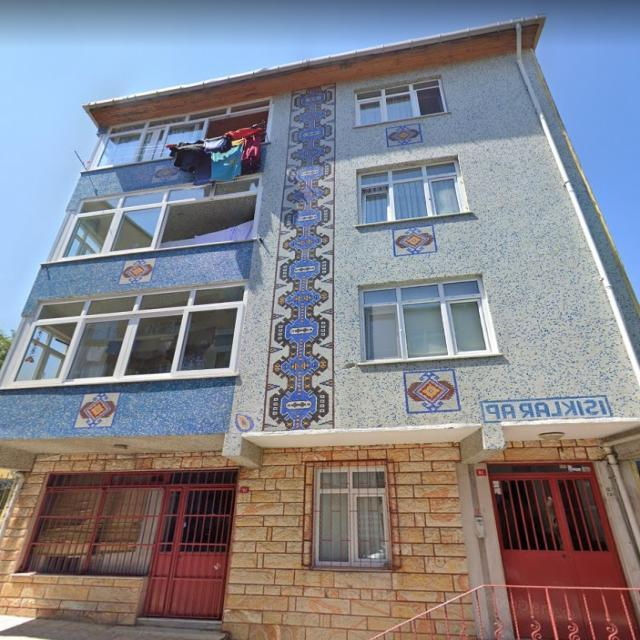Building: (0, 14, 640, 640)
